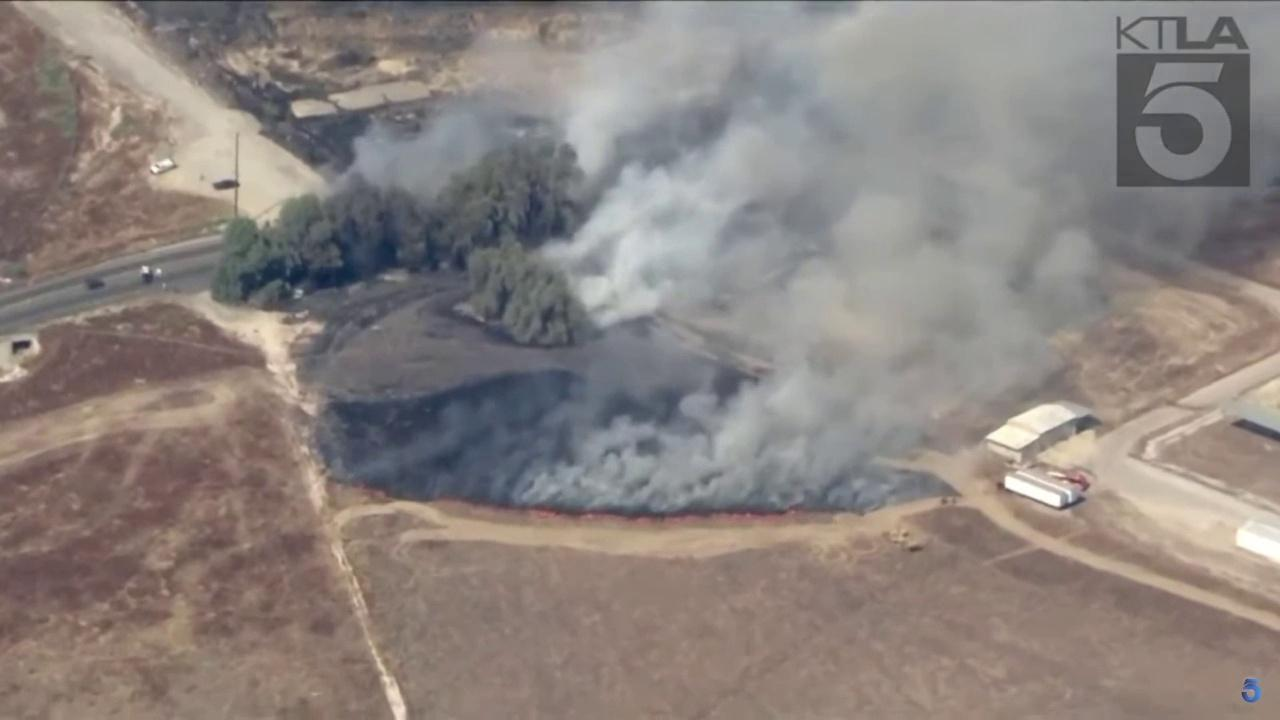fire: (577, 511, 796, 524), (428, 497, 472, 507), (351, 486, 386, 498), (527, 508, 559, 518)
smoke: (315, 0, 1280, 512)
